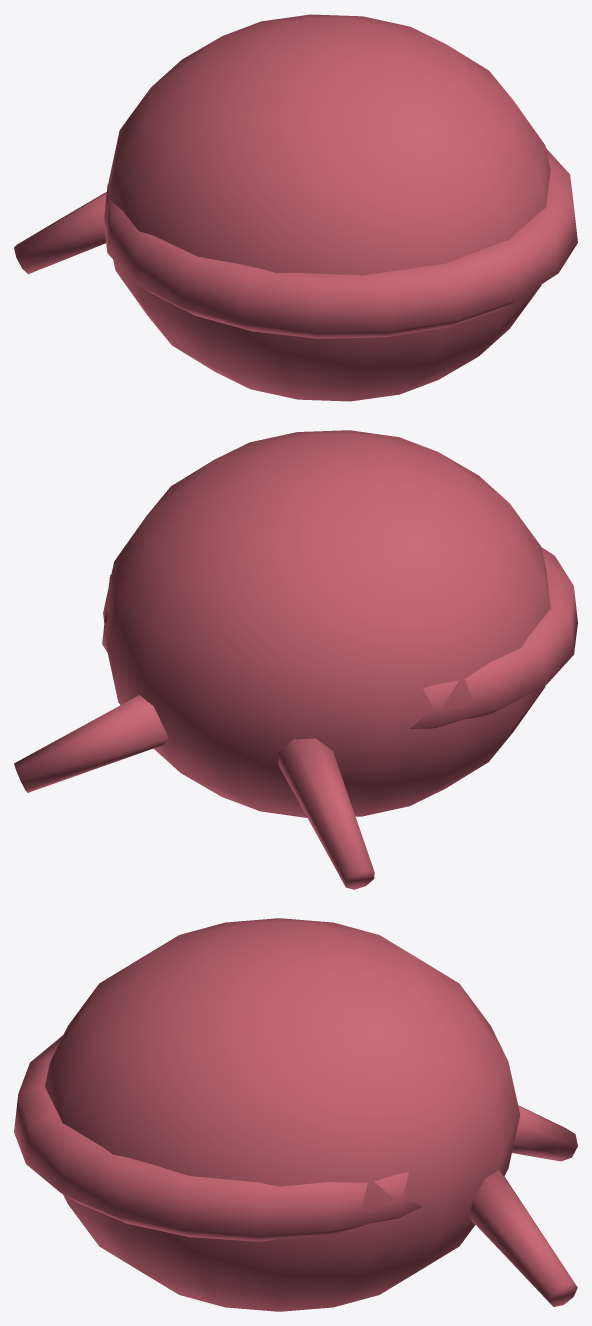
Rendered from hat_pirate_bandana.glb.
The picture shows the model from 3 angles, top to bottom: view 1: azimuth 30°, elevation 25°; view 2: azimuth 150°, elevation 25°; view 3: azimuth 270°, elevation 25°; orthographic projection. The views are drawn at different scales.
Visible parts, largest first — view 1: BandanaCap, BandanaFold, BandanaKnotR; view 2: BandanaCap, BandanaFold, BandanaKnotR, BandanaKnotL; view 3: BandanaCap, BandanaFold, BandanaKnotL, BandanaKnotR.
Boxes of the visible parts, x1,y1,x2,y2 form: BandanaCap: (104, 14, 550, 401); BandanaFold: (103, 148, 577, 338); BandanaKnotR: (14, 192, 106, 274); BandanaCap: (103, 430, 550, 817); BandanaFold: (102, 547, 577, 728); BandanaKnotR: (278, 738, 374, 889); BandanaKnotL: (14, 695, 168, 792); BandanaCap: (45, 918, 520, 1311); BandanaFold: (14, 1035, 421, 1241); BandanaKnotL: (469, 1169, 577, 1306); BandanaKnotR: (512, 1105, 577, 1161).
Size of the model in its own units: 0.232 by 0.1804 by 0.2678.
